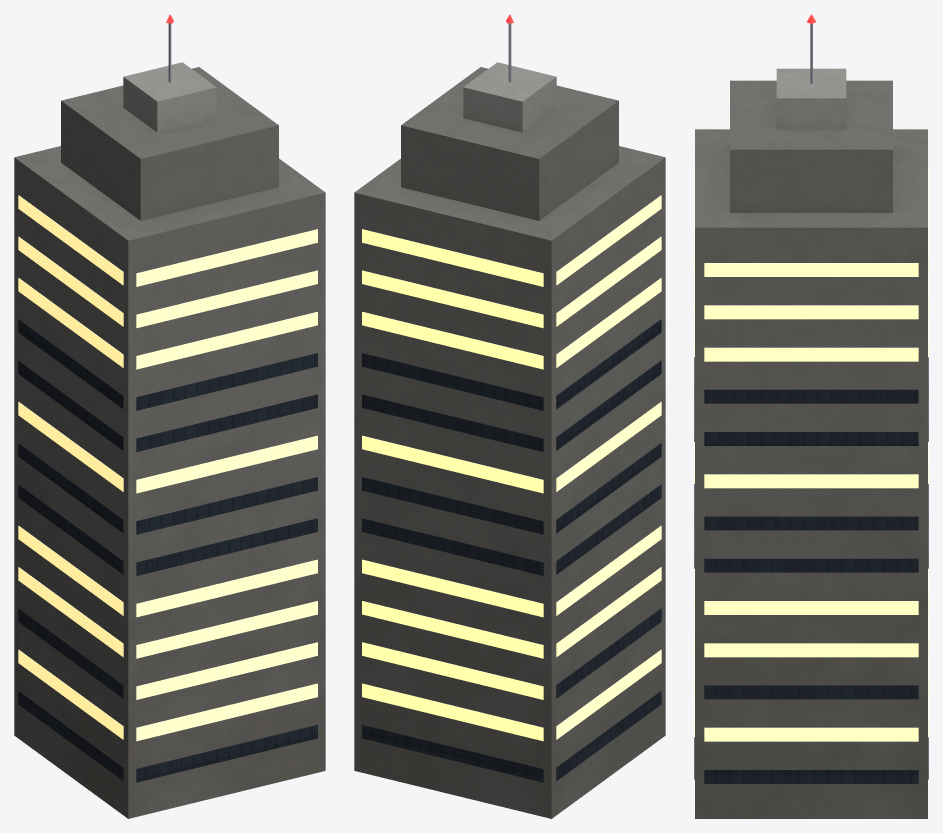
Rendered from skyskrapa_3_tex.glb.
The picture shows the model from 3 angles, left to right: view 1: azimuth 30°, elevation 25°; view 2: azimuth 150°, elevation 25°; view 3: azimuth 270°, elevation 25°; orthographic projection. The views are drawn at different scales.
Visible parts, largest first — view 1: skyskrapa_3; view 2: skyskrapa_3; view 3: skyskrapa_3.
Boxes of the visible parts, x1,y1,x2,y2 form: skyskrapa_3: (14,14,325,818); skyskrapa_3: (354,14,665,818); skyskrapa_3: (694,14,928,818).
Size of the model in its own units: 20.1 by 71.58 by 20.1.
Materials: 6 (3 with a texture image).
